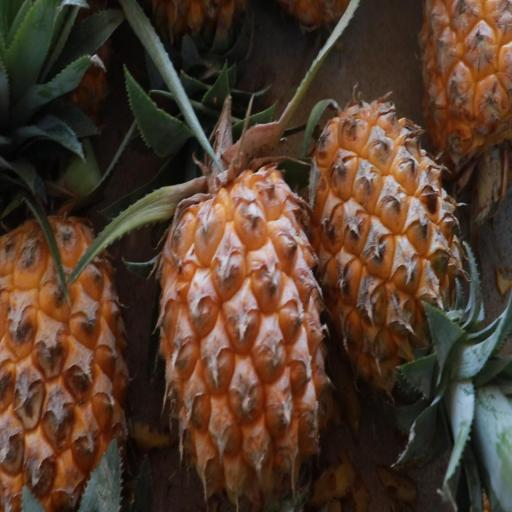Pineapple - v8 v1: (150, 115, 329, 512), (304, 88, 463, 410), (0, 121, 131, 511)
